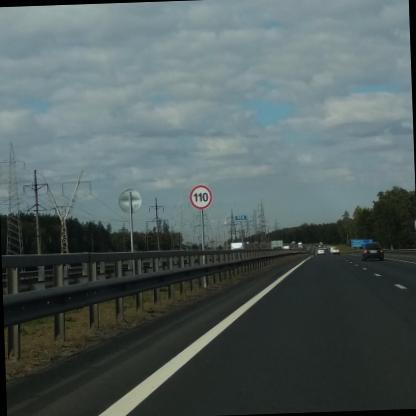road_sign: (189, 184, 213, 210)
